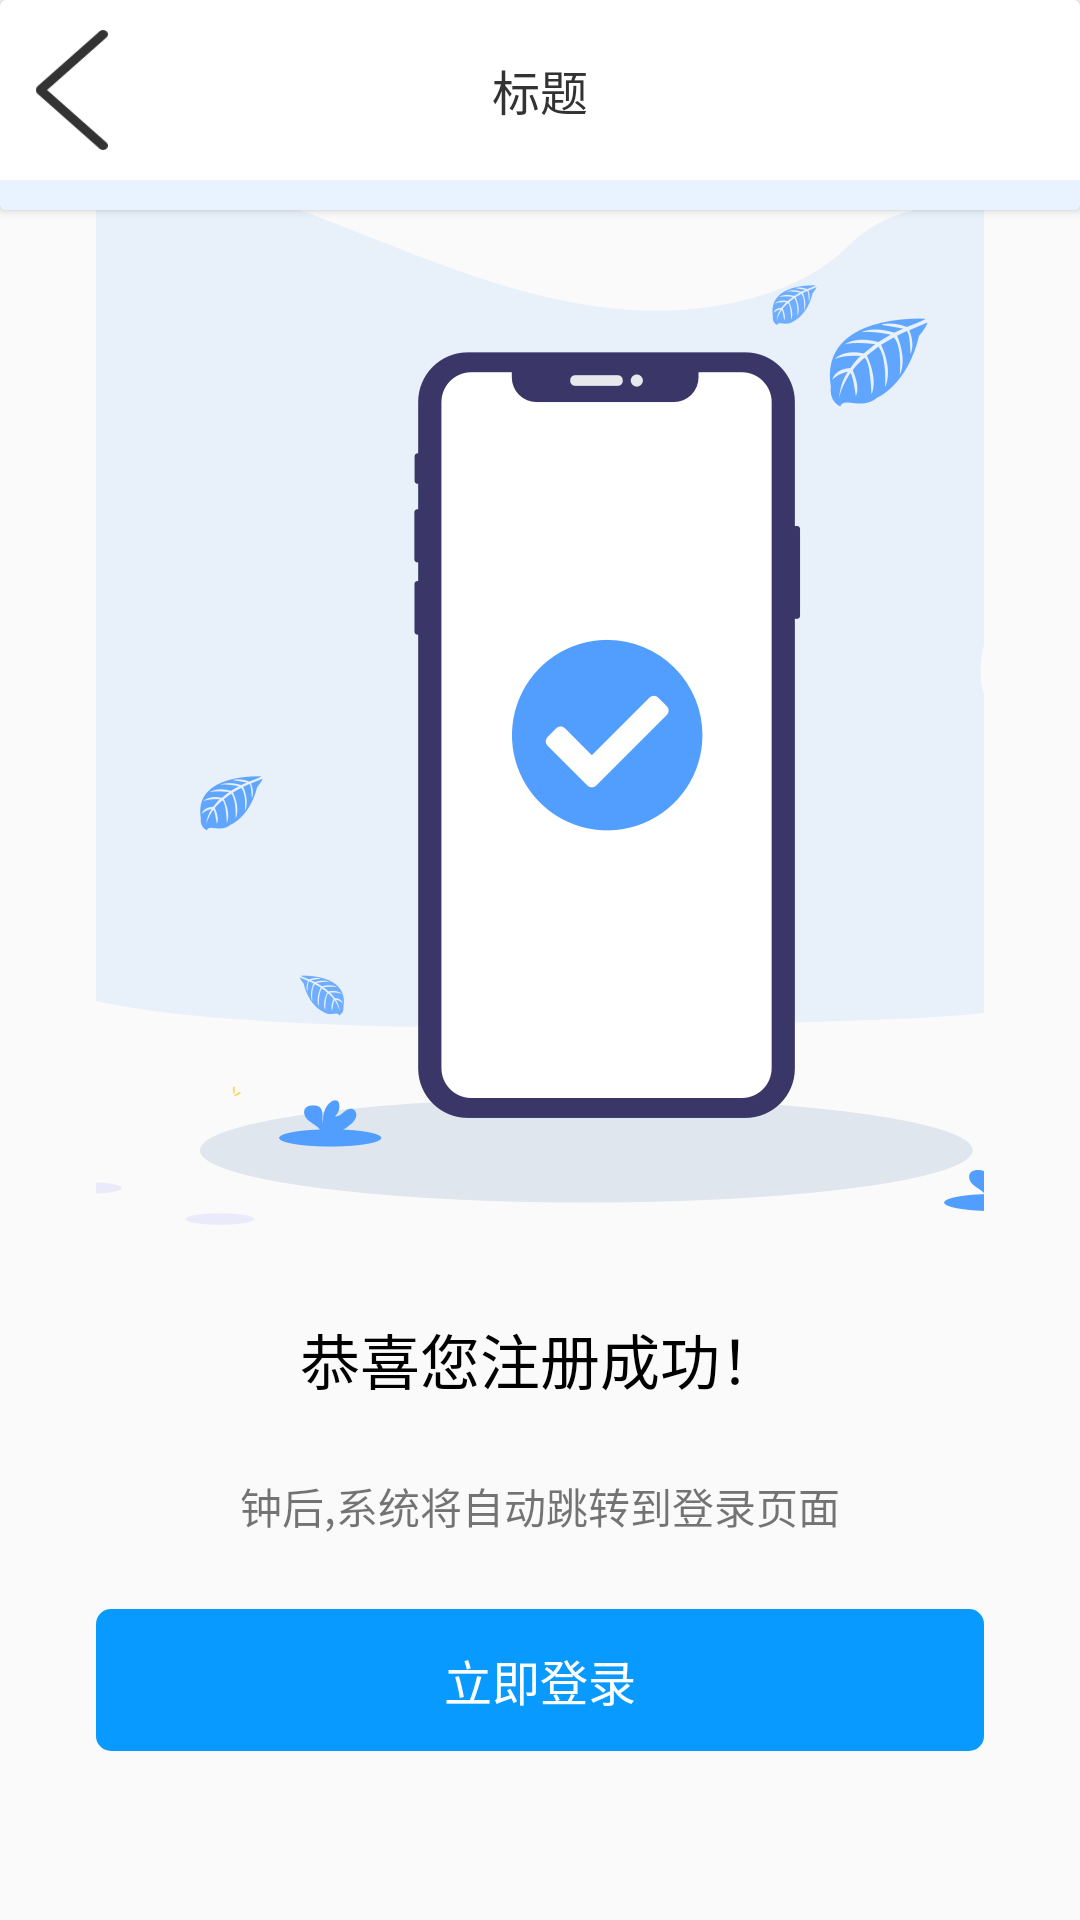

Icons on this 1080px×1920px Android screen, each with the point to tap as (x,y):
return: (72,90)
